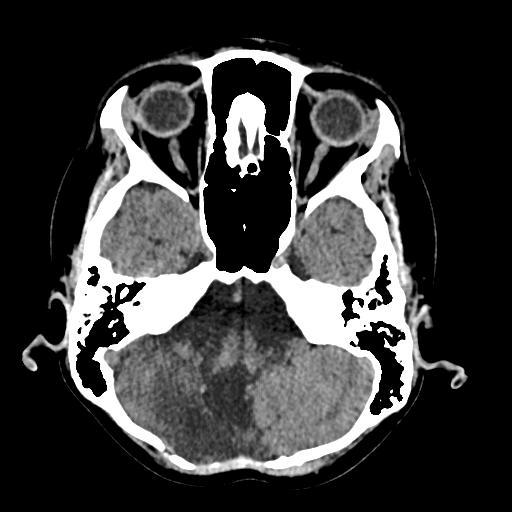Cancer: (193, 361, 274, 436)
